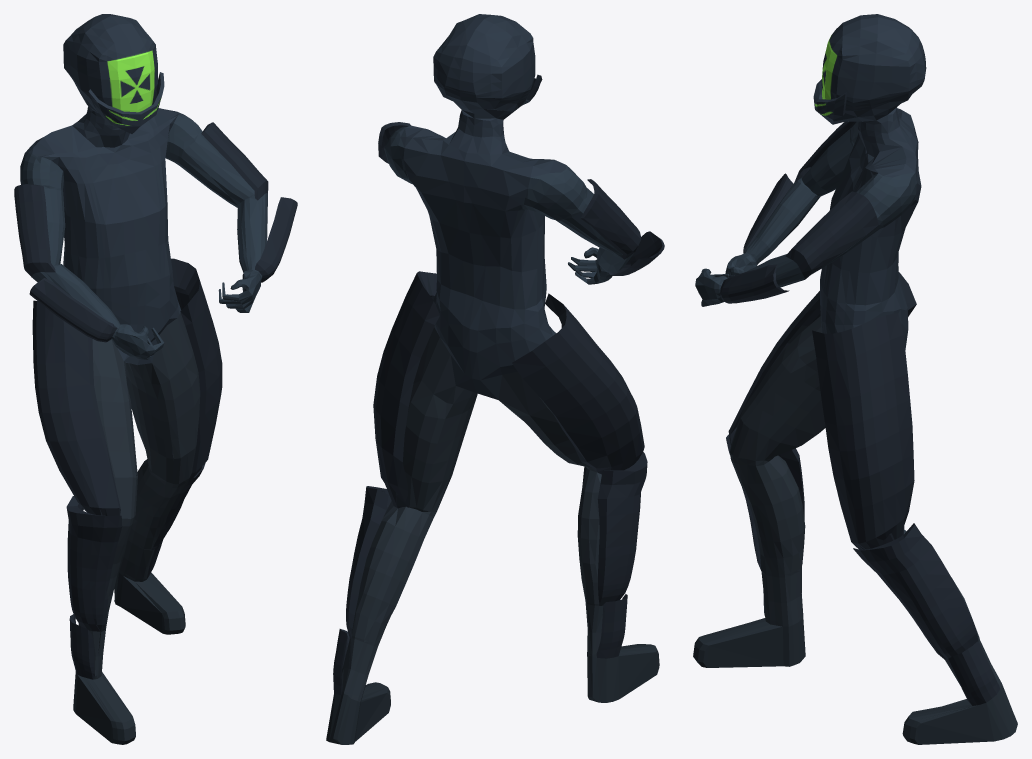
Rendered from Bastion_Stun_000008.obj.
The picture shows the model from 3 angles, left to right: view 1: azimuth 30°, elevation 25°; view 2: azimuth 150°, elevation 25°; view 3: azimuth 270°, elevation 25°; orthographic projection. The views are drawn at different scales.
Visible parts, largest first — view 1: Cube.002; view 2: Cube.002; view 3: Cube.002.
Boxes of the visible parts, x1,y1,x2,y2 form: Cube.002: (14,14,297,744); Cube.002: (326,14,664,744); Cube.002: (693,14,1017,744).
Size of the model in its own units: 1.56 by 3.7 by 1.6.
